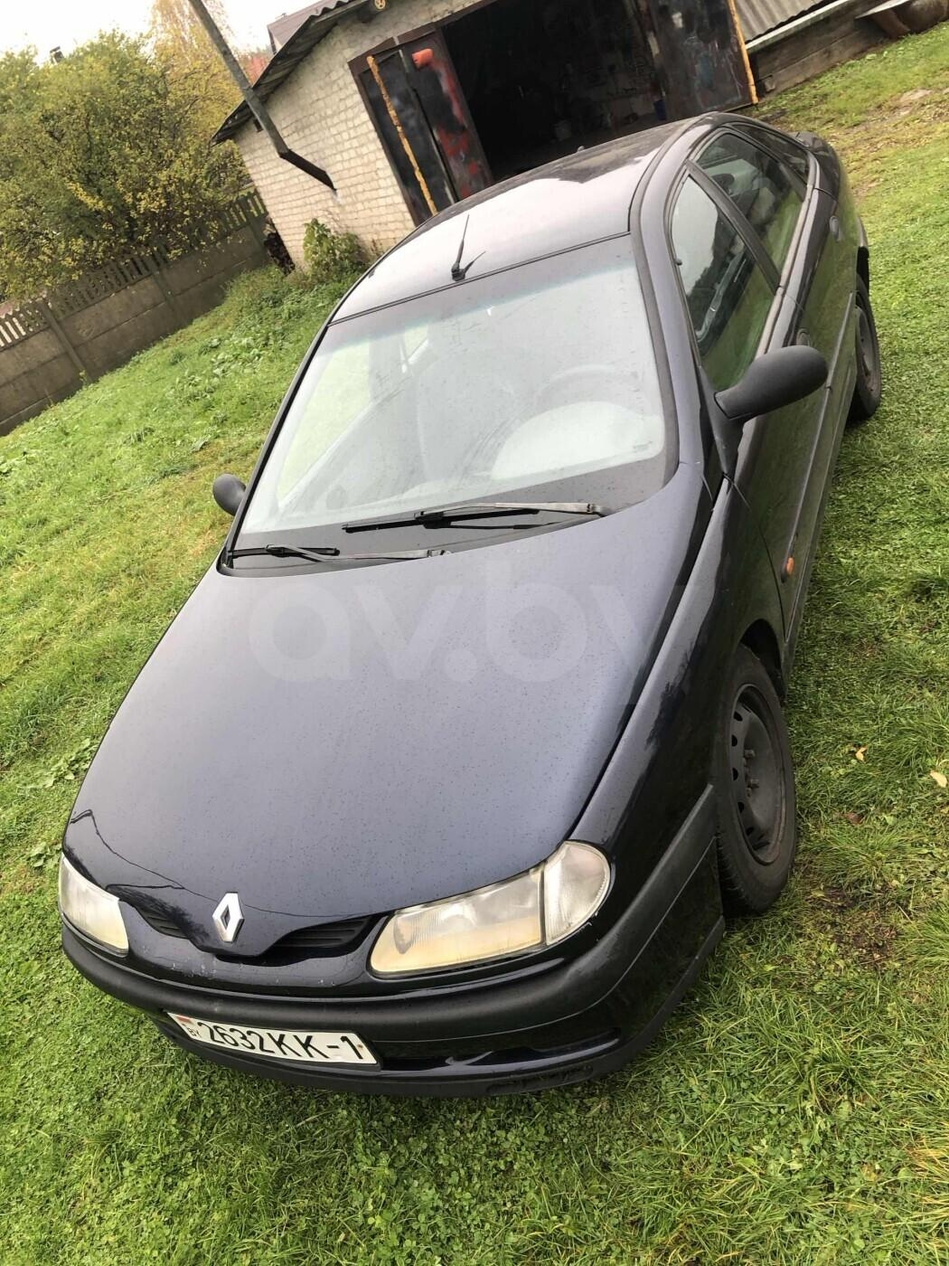Lahuna_1993-1999: (43, 112, 884, 1087)
